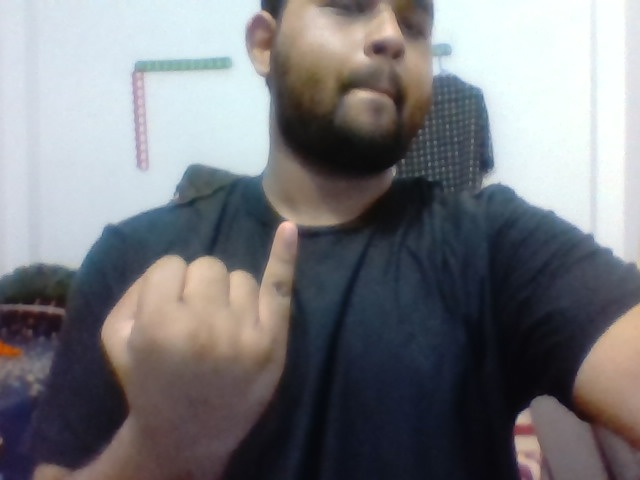I: (89, 216, 316, 426)
